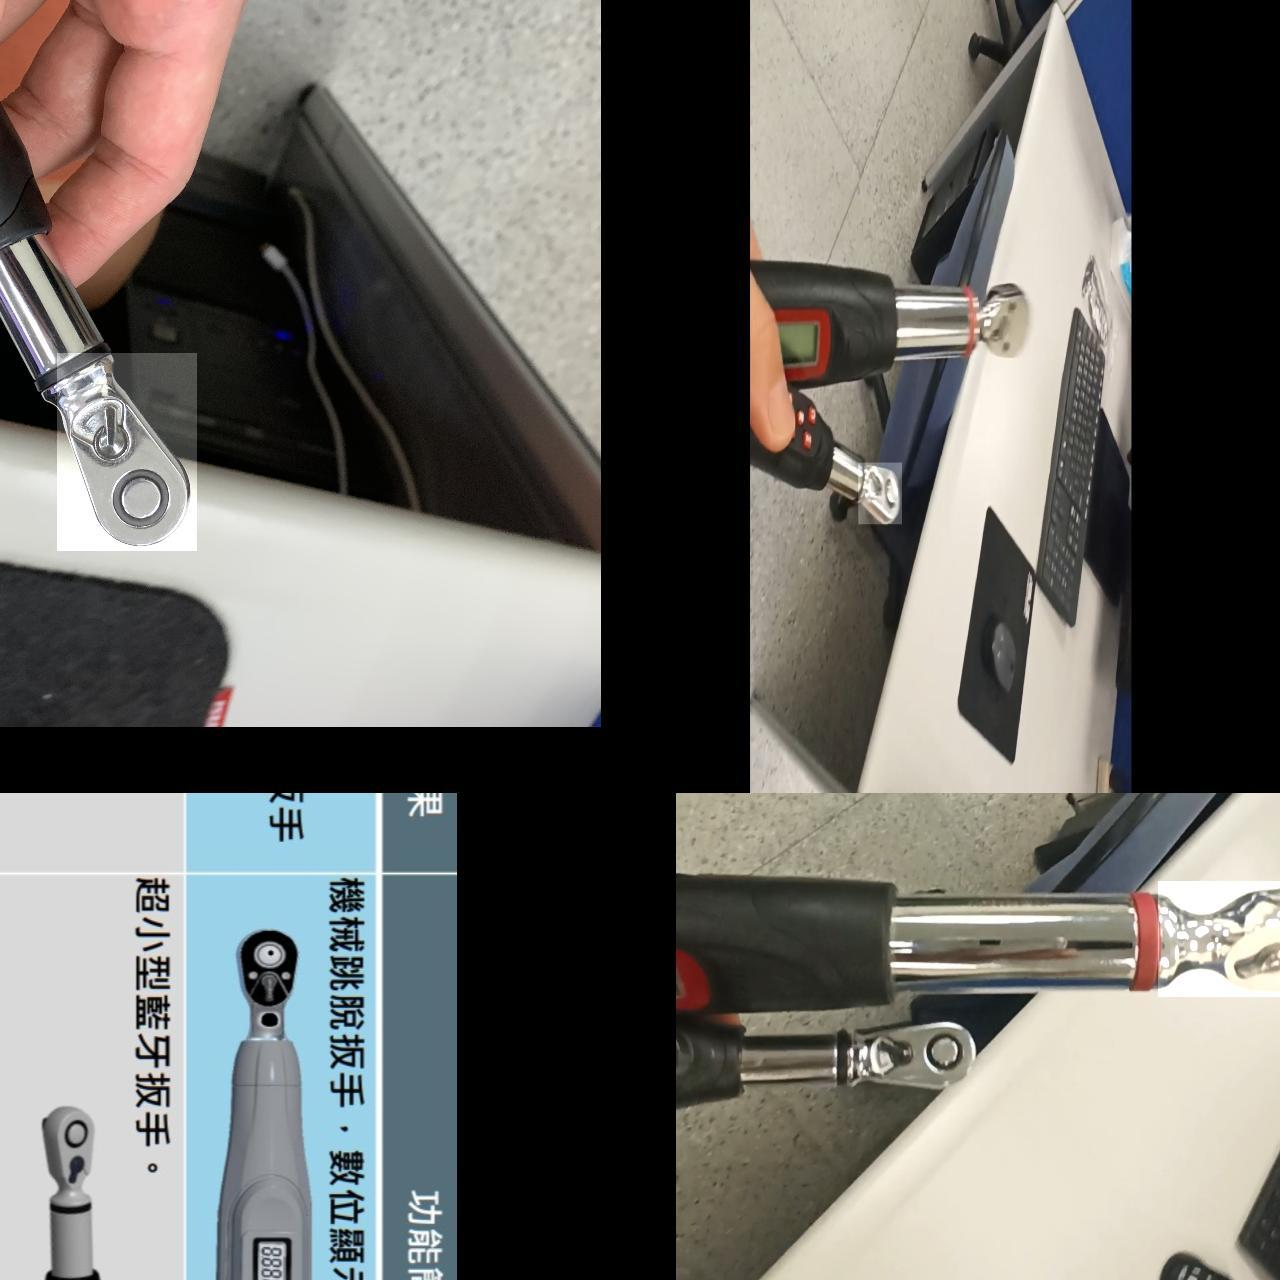Tool: (56, 353, 196, 551), (1157, 881, 1280, 998), (842, 1019, 983, 1089), (42, 1104, 98, 1193), (858, 463, 901, 524)
